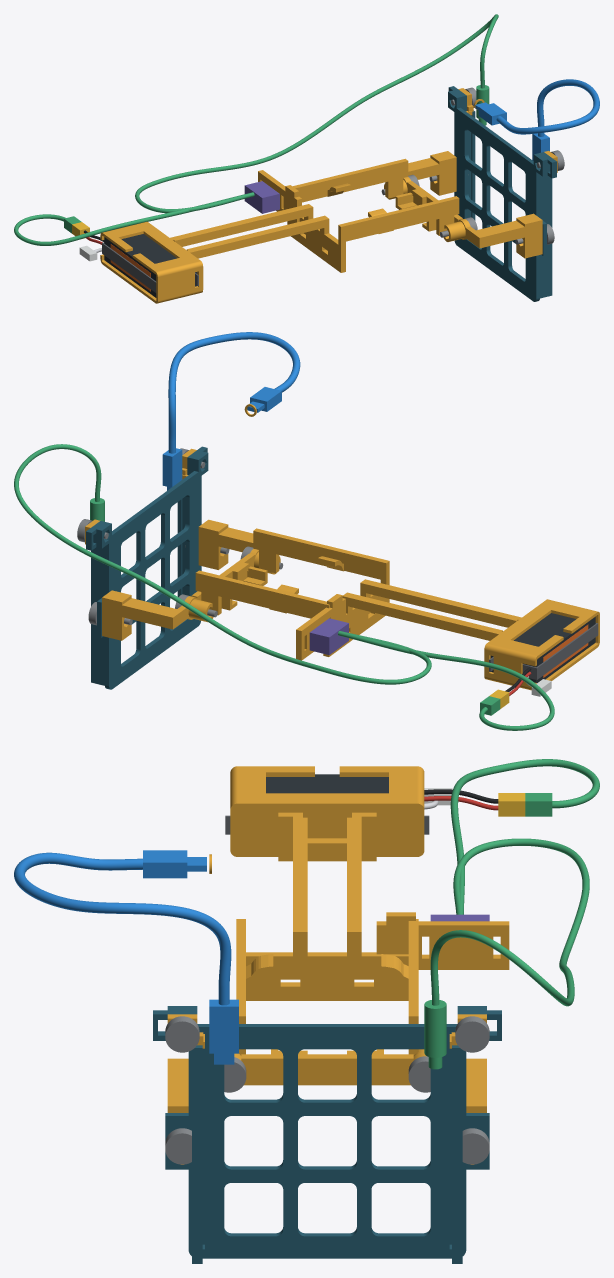
The model's file is easy_mount_assembly.glb.
The picture shows the model from 3 angles, top to bottom: view 1: azimuth 30°, elevation 25°; view 2: azimuth 150°, elevation 25°; view 3: azimuth 270°, elevation 25°; orthographic projection. The views are drawn at different scales.
Visible parts, largest first — view 1: easy_mount_assembly (×8); view 2: easy_mount_assembly (×8); view 3: easy_mount_assembly (×7).
Boxes of the visible parts, <box> form: easy_mount_assembly (×8): <box>14,14,599,303</box>; easy_mount_assembly (×8): <box>14,332,599,730</box>; easy_mount_assembly (×7): <box>14,759,599,1263</box>.
Bounding box in the file's own units: 0.3773 × 0.1703 × 0.2385.
